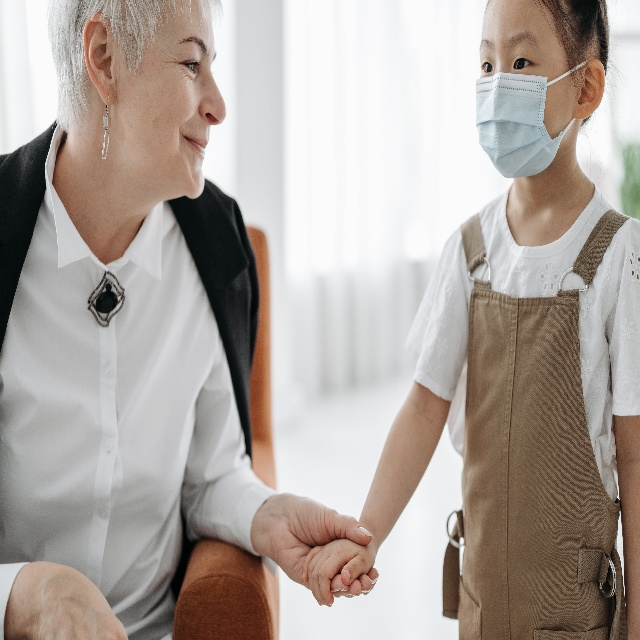Sin_guantes: (278, 493, 377, 605), (40, 571, 130, 640), (301, 537, 375, 604)
